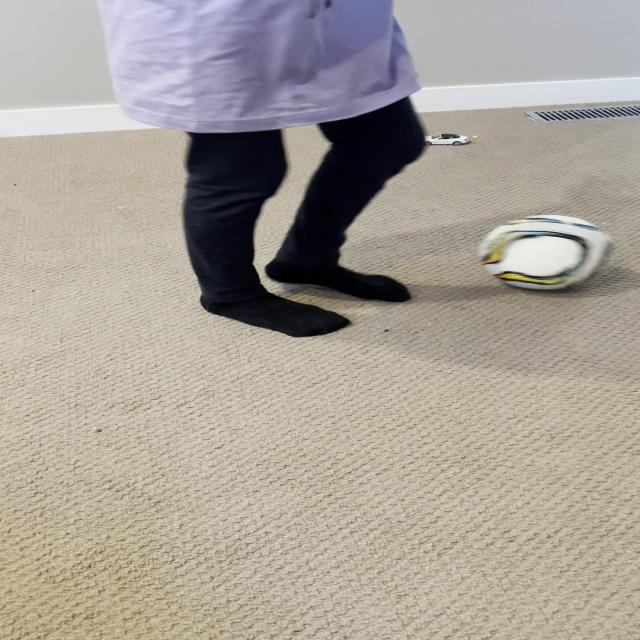Soccer Ball: (477, 213, 614, 292)
